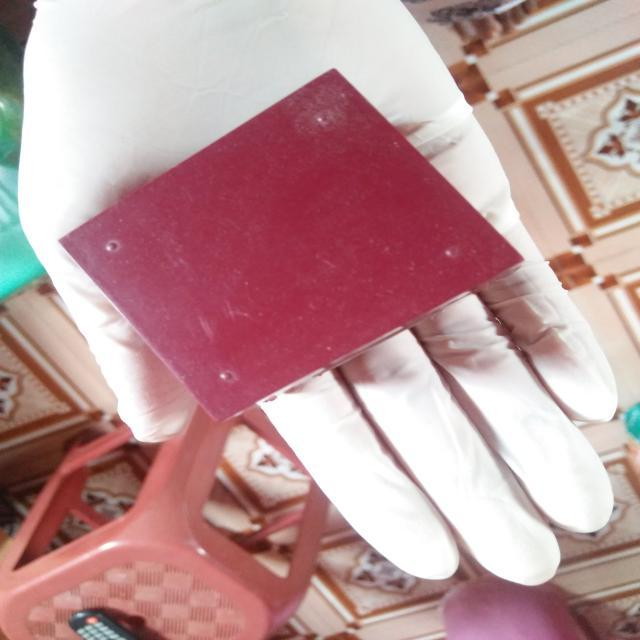gloved_hand: (14, 3, 624, 597)
